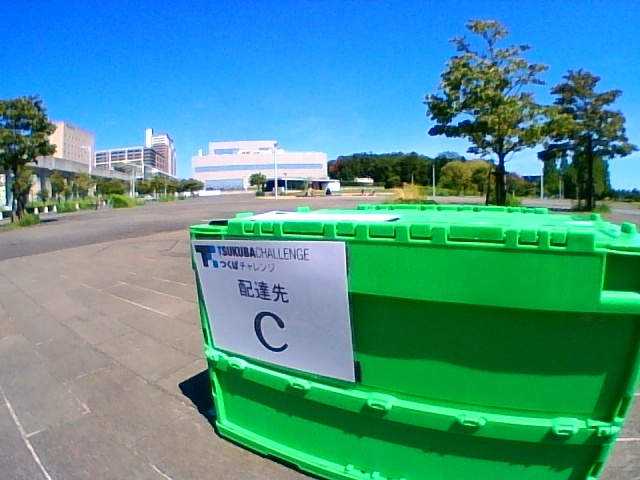green_box: (189, 203, 640, 480)
tag_c: (218, 245, 346, 351)
